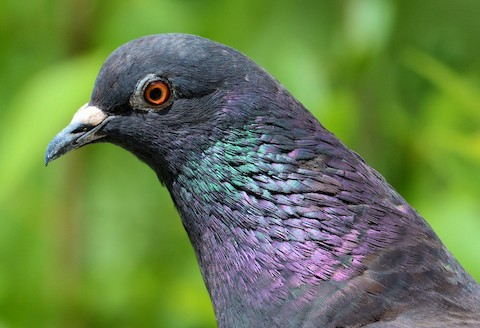pigeon: (44, 30, 473, 320)
